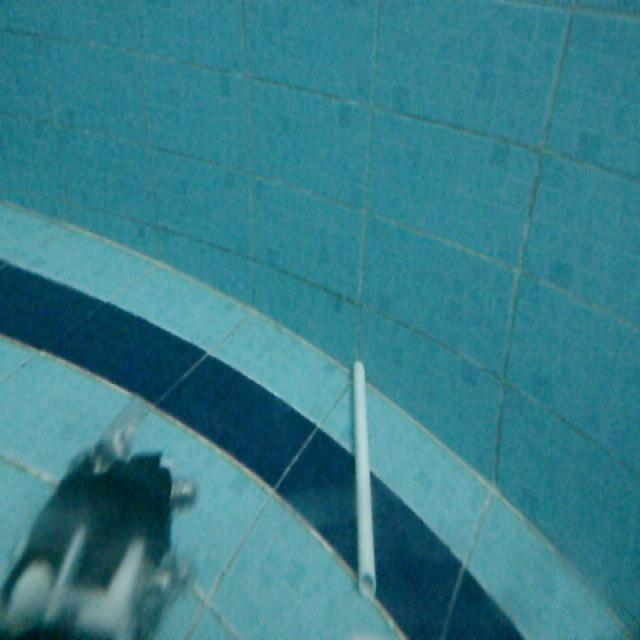Cube: (347, 354, 379, 598)
